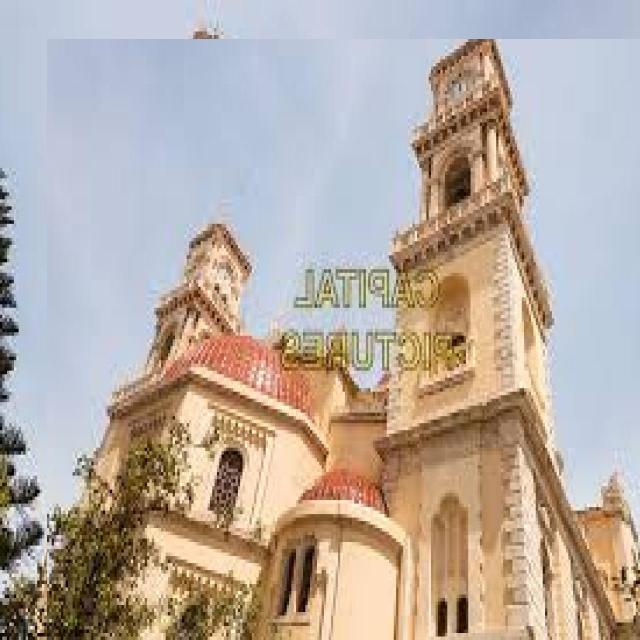Agios Minas: (48, 40, 640, 640)
